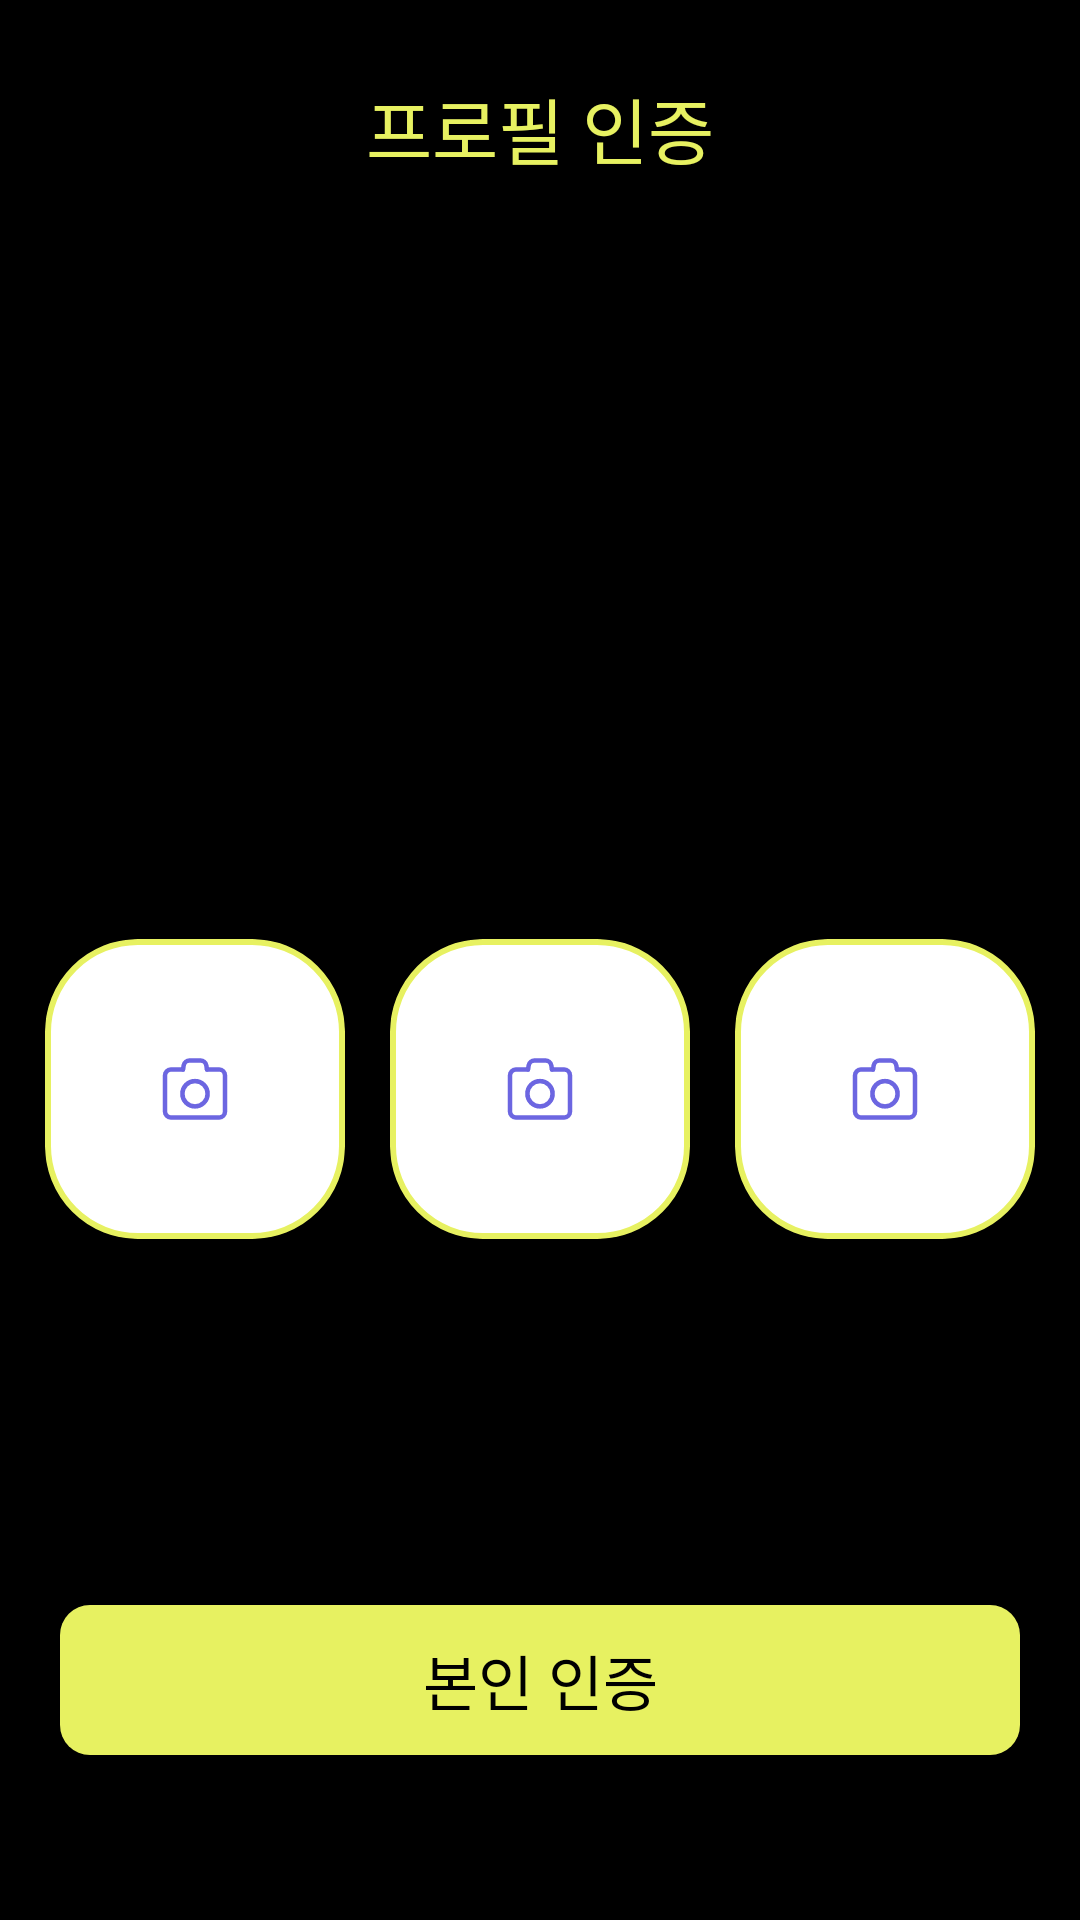

Screen size 1080×1920. Icon name, then its center in pixels as [x,y]:
certificate profile camera: [195,1089], [540,1089], [885,1089]
